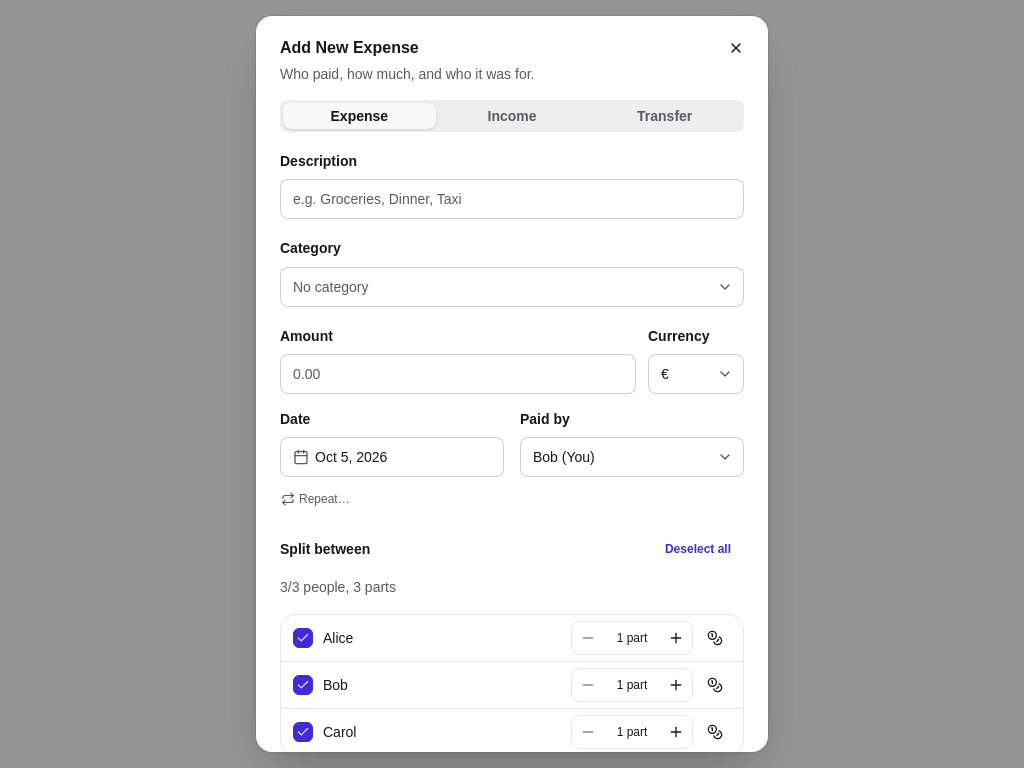
Test: AddExpenseModal › says what is missing instead of saving
Type "Taxi" into the field labelled "Description". click: (512, 199)
box: [280,179,744,219]
(page scrolled)
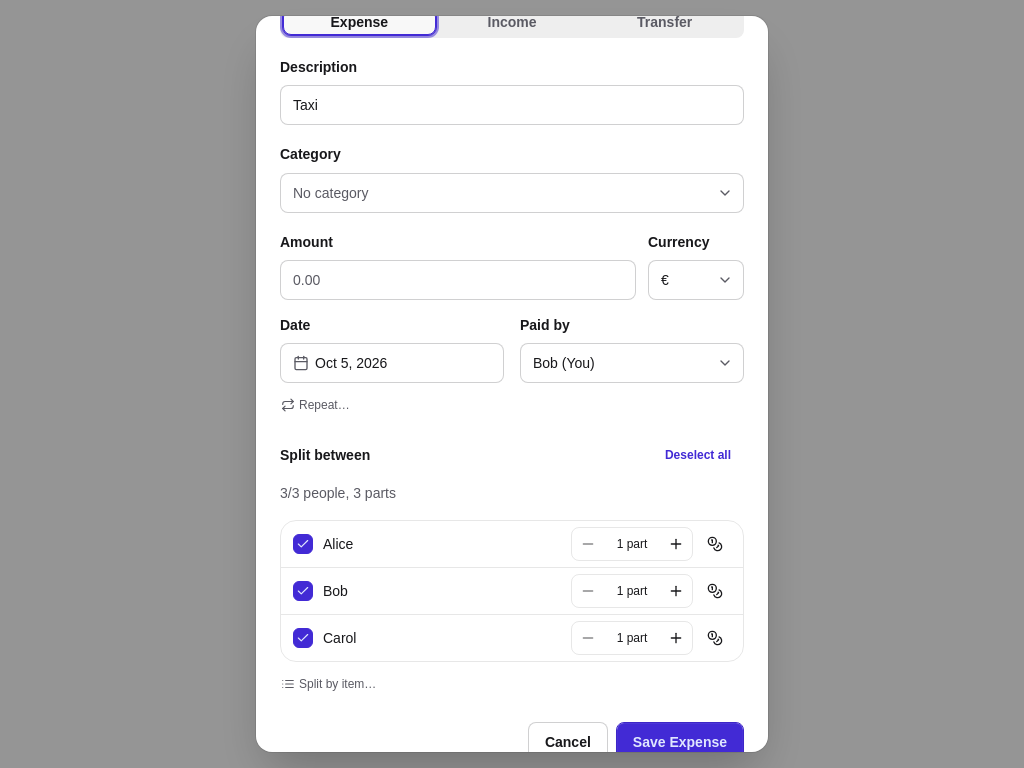
Submit the form, box [280,6,744,762]
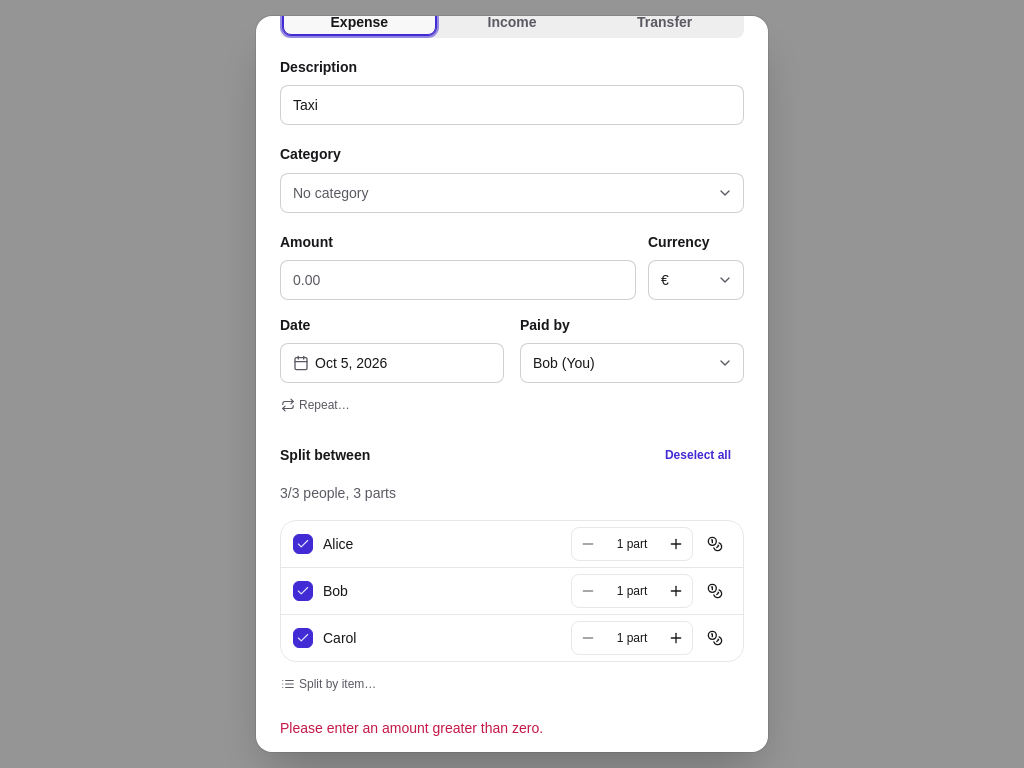
Result: the dialog shows "Please enter an amount greater than zero." at [280,720,543,736]
